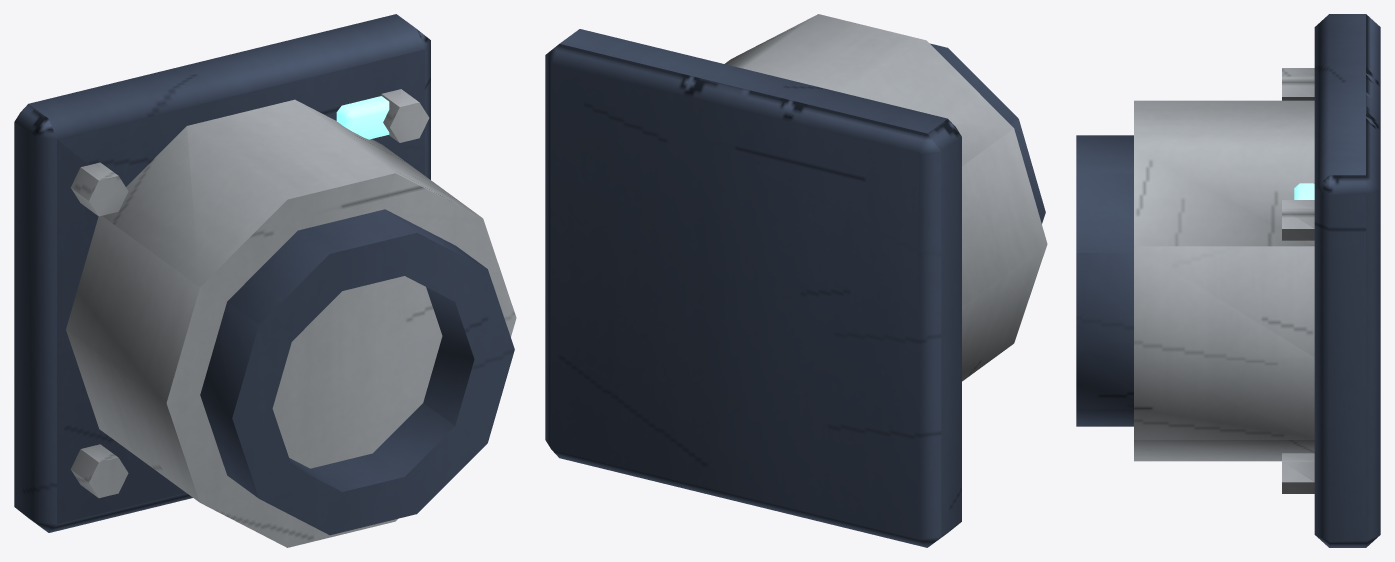
Rendered from wall_connector.glb.
The picture shows the model from 3 angles, left to right: view 1: azimuth 30°, elevation 25°; view 2: azimuth 150°, elevation 25°; view 3: azimuth 270°, elevation 25°; orthographic projection. The views are drawn at different scales.
Parts seen in each view (by area): view 1: DL016_WallConnector_graphite_navy, DL016_WallConnector_titanium, DL016_WallConnector_emissive_cyan; view 2: DL016_WallConnector_graphite_navy, DL016_WallConnector_titanium; view 3: DL016_WallConnector_titanium, DL016_WallConnector_graphite_navy.
Part boxes in pixels (x1=…): DL016_WallConnector_graphite_navy: x1=14, y1=14, x2=514, y2=535; DL016_WallConnector_titanium: x1=66, y1=89, x2=516, y2=547; DL016_WallConnector_emissive_cyan: x1=336, y1=96, x2=389, y2=139; DL016_WallConnector_graphite_navy: x1=545, y1=29, x2=1045, y2=547; DL016_WallConnector_titanium: x1=725, y1=14, x2=1047, y2=381; DL016_WallConnector_titanium: x1=1134, y1=68, x2=1314, y2=493; DL016_WallConnector_graphite_navy: x1=1076, y1=14, x2=1380, y2=547.
Bounding box in the file's own units: 0.5 × 0.5 × 0.37.
Materials: 3 (2 with a texture image).
